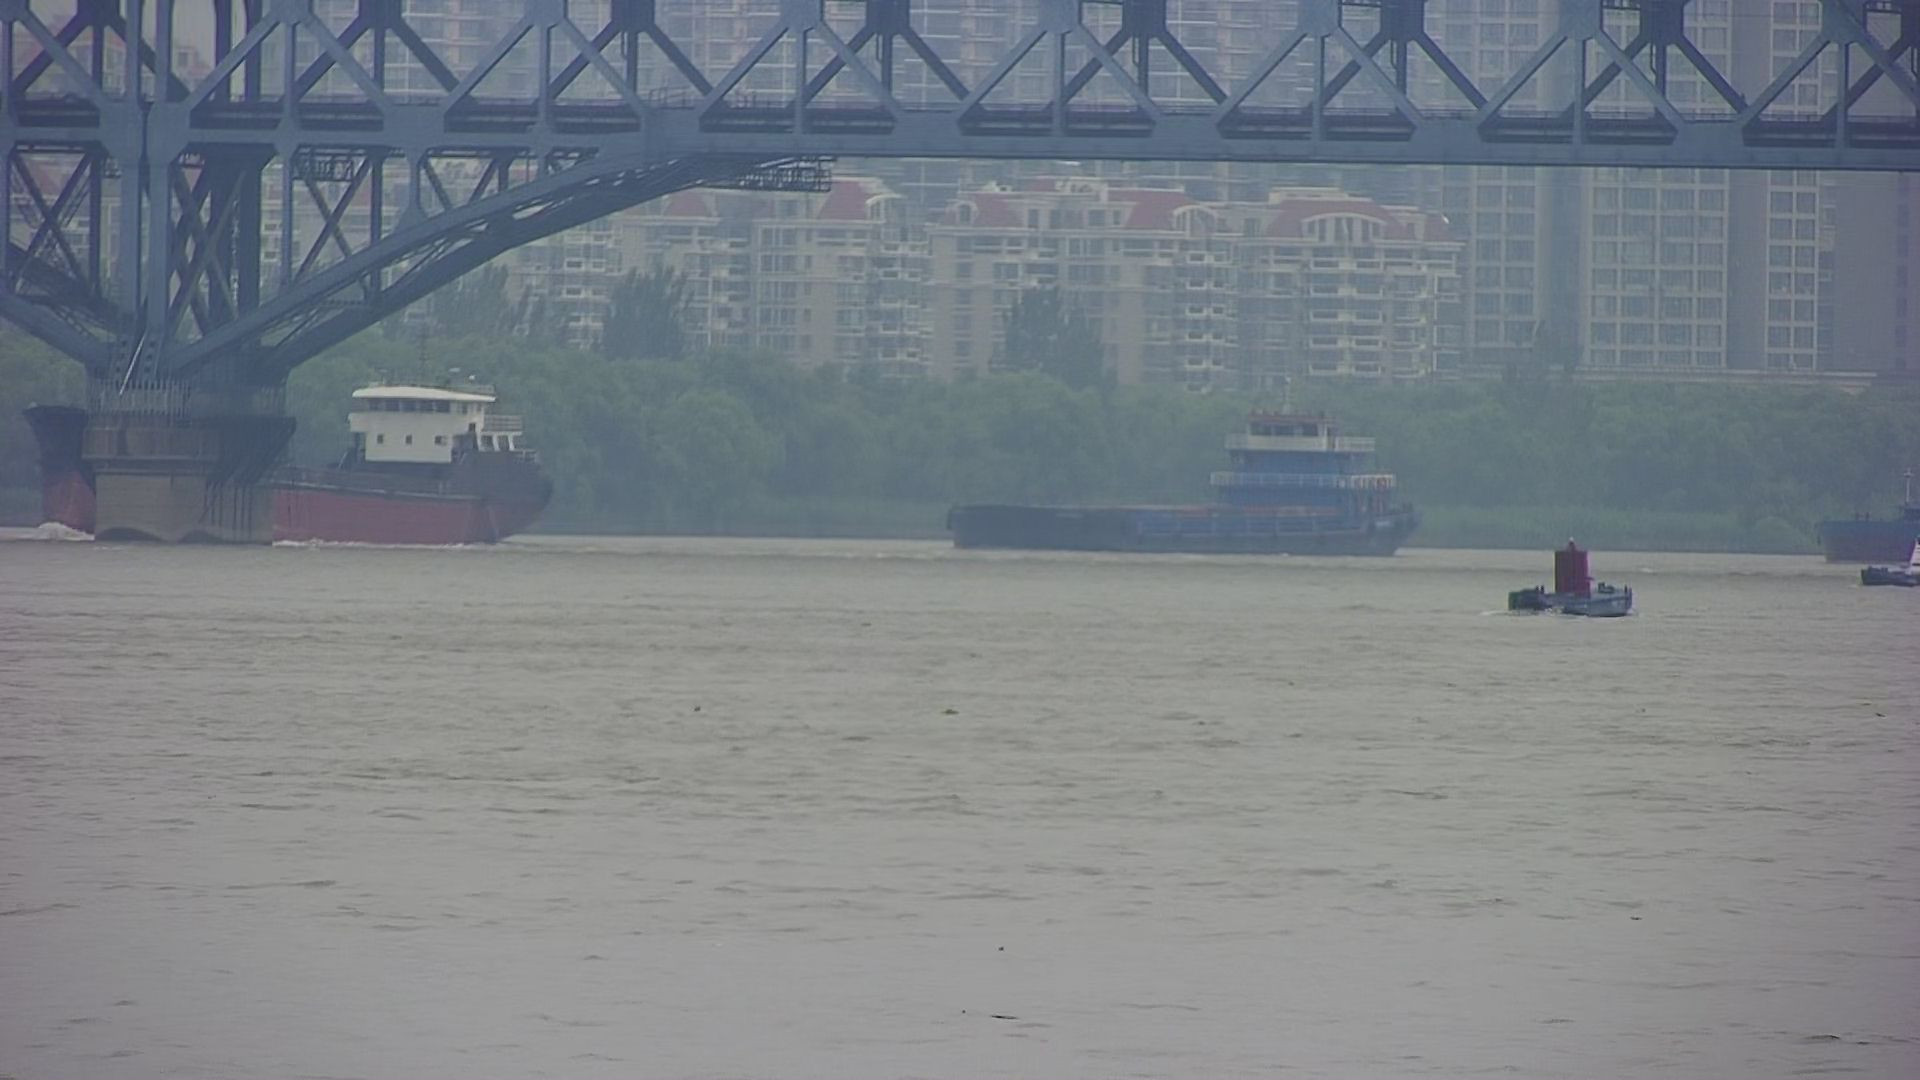boat: (1502, 534, 1639, 621)
bridge: (7, 7, 1909, 367)
ship: (24, 375, 553, 549), (928, 398, 1435, 556), (1813, 487, 1917, 599)
